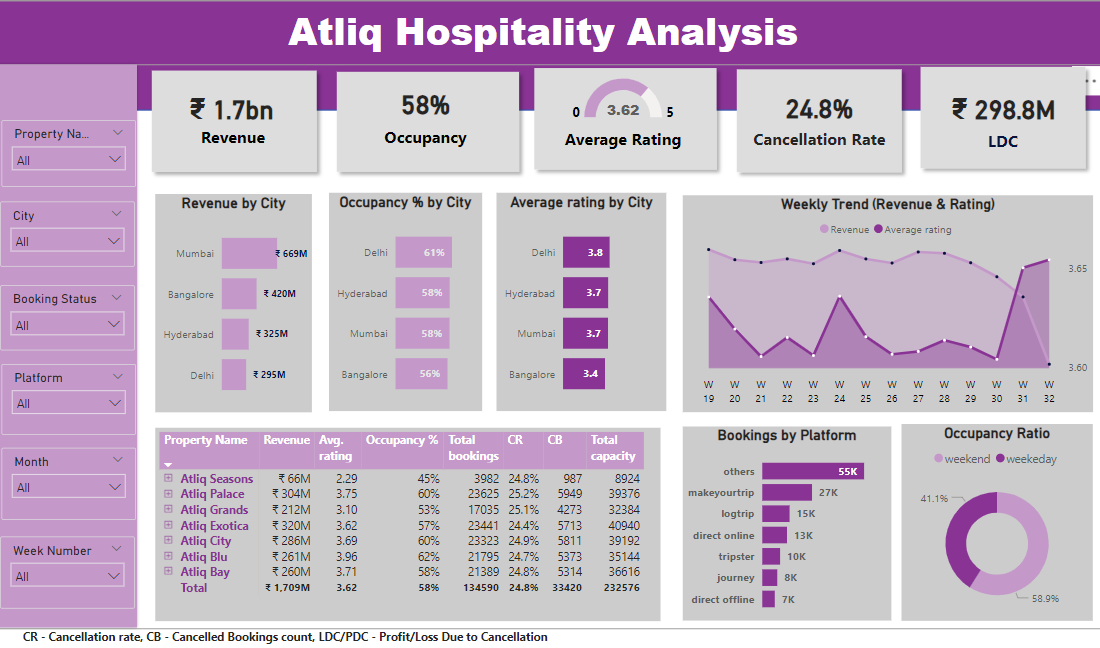

The page's visual inventory and layout, read from the dashboard file:
{"tool":"powerbi","page":{"name":"Overall","canvas":[1280,760],"ordinal":0},"visuals":[{"type":"shape","box":[0,0,1280,134.4],"z":0},{"type":"textbox","box":[1.1,6.7,1278.9,75.7],"z":0,"group":"g1"},{"type":"group","id":"g1","title":"visuals","box":[0,6.7,1280,726.7],"z":1000},{"type":"shape","box":[1060,73.9,208.3,135],"z":1000,"group":"g1"},{"type":"shape","box":[848.3,77.3,208.3,136.7],"z":2000,"group":"g1"},{"type":"textbox","box":[425,146.7,145,45],"z":2000},{"type":"shape","box":[615,75.6,228.3,135],"z":3000,"group":"g1"},{"type":"textbox","box":[863.3,150,180,45],"z":3000},{"type":"shape","box":[386.7,80,228.3,133.3],"z":4000,"group":"g1"},{"type":"textbox","box":[1060,151.7,208.3,35],"z":4000},{"type":"textbox","box":[203.3,146.7,145,40],"z":5000},{"type":"clusteredBarChart","title":"Revenue by City","fields":{"Category":["dim_hotels.city"],"Y":["resource_measures.revenue"]},"box":[186.8,229.8,181.1,251.7],"z":5000,"group":"g1"},{"type":"card","fields":{"Values":["resource_measures.Occupancy %"]},"box":[438.3,93.9,118.3,65],"z":6000,"group":"g1"},{"type":"textbox","box":[648.3,150,156.7,38.3],"z":6000},{"type":"textbox","box":[24.7,727,1063.3,33],"z":6750},{"type":"clusteredBarChart","title":"Occupancy % by City","fields":{"Category":["dim_hotels.city"],"Y":["resource_measures.Occupancy %"]},"box":[386.2,229.3,176.5,252.2],"z":7000,"group":"g1"},{"type":"gauge","fields":{"MaxValue":["resource_measures.max.rating"],"MinValue":["resource_measures.min.rating"],"Y":["resource_measures.avg.rating mod"]},"box":[658.3,83.9,136.7,75],"z":8000,"group":"g1"},{"type":"clusteredBarChart","title":"Average rating by City","fields":{"Category":["dim_hotels.city"],"Y":["resource_measures.Avg. rating"]},"box":[580.7,229.3,196.3,252.2],"z":9000,"group":"g1"},{"type":"donutChart","title":"Occupancy Ratio","fields":{"Category":["dim_date.day_type"],"Y":["resource_measures.Occupancy %"]},"box":[1047,495.9,221,227.5],"z":10000,"group":"g1"},{"type":"areaChart","title":"Weekly Trend (Revenue & Rating)","fields":{"Category":["dim_date.week no"],"Y2":["_Measures.Avg. rating"],"Y":["_Measures.revenue"]},"box":[795,231.5,473.3,250],"z":11000,"group":"g1"},{"type":"clusteredBarChart","title":"Bookings by Platform","fields":{"Category":["fact_bookings.booking_platform"],"Y":["resource_measures.Total bookings"]},"box":[794.6,499.2,240.8,224.2],"z":12000,"group":"g1"},{"type":"pivotTable","fields":{"Rows":["dim_hotels.property_name","dim_hotels.city"],"Values":["resource_measures.revenue","resource_measures.Avg. rating","resource_measures.Occupancy %","resource_measures.Total bookings","resource_measures.CR","resource_measures.Total cancelled bookings","resource_measures.Total capacity"]},"box":[186.8,500,583.3,223.3],"z":13000,"group":"g1"},{"type":"shape","box":[0,76.7,168.4,656.7],"z":14000,"group":"g1"},{"type":"slicer","fields":{"Values":["dim_date.week no"]},"box":[6.7,625,155.1,83.3],"z":15000,"group":"g1"},{"type":"slicer","fields":{"Values":["dim_date.mmm yy.Variation.Date Hierarchy.Month"]},"box":[8.3,523.4,155.1,83.3],"z":16000,"group":"g1"},{"type":"slicer","fields":{"Values":["fact_bookings.booking_platform"]},"box":[8.3,426.7,155.1,81.7],"z":17000,"group":"g1"},{"type":"slicer","fields":{"Values":["fact_bookings.booking_status"]},"box":[6.7,335,155.1,75],"z":18000,"group":"g1"},{"type":"slicer","fields":{"Values":["dim_hotels.city"]},"box":[6.7,238.4,155.1,75],"z":19000,"group":"g1"},{"type":"slicer","fields":{"Values":["dim_hotels.property_name"]},"box":[8.3,145,155.1,76.7],"z":20000,"group":"g1"},{"type":"card","fields":{"Values":["resource_measures.LDC"]},"box":[1093.3,86.7,143.3,90],"z":21000,"group":"g1"},{"type":"card","fields":{"Values":["resource_measures.CR"]},"box":[875,78.9,156.7,101.7],"z":22000,"group":"g1"},{"type":"shape","box":[173.3,78.4,208.3,135],"z":23000,"group":"g1"},{"type":"card","fields":{"Values":["_Measures.revenue"]},"box":[186.7,87.3,176.7,86.7],"z":24000,"group":"g1"}]}

Visuals, with their boxes in screenshot pixels (x1, y1, x2, y2), scaled from the page's 1280x760 canvas onto the 1100x648 screenshot:
shape: crop(0, 0, 1099, 115)
textbox: crop(1, 6, 1099, 70)
"visuals" group: crop(0, 6, 1099, 625)
shape: crop(911, 63, 1090, 178)
shape: crop(729, 66, 908, 182)
textbox: crop(365, 125, 490, 163)
shape: crop(529, 64, 725, 180)
textbox: crop(742, 128, 897, 166)
shape: crop(332, 68, 529, 182)
textbox: crop(911, 129, 1090, 159)
textbox: crop(175, 125, 299, 159)
"Revenue by City" clusteredBarChart: crop(161, 196, 316, 411)
card - resource_measures.Occupancy %: crop(377, 80, 478, 135)
textbox: crop(557, 128, 692, 161)
textbox: crop(21, 620, 935, 647)
"Occupancy % by City" clusteredBarChart: crop(332, 196, 484, 411)
gauge - resource_measures.max.rating x resource_measures.min.rating: crop(566, 72, 683, 135)
"Average rating by City" clusteredBarChart: crop(499, 196, 668, 411)
"Occupancy Ratio" donutChart: crop(900, 423, 1090, 617)
"Weekly Trend (Revenue & Rating)" areaChart: crop(683, 197, 1090, 411)
"Bookings by Platform" clusteredBarChart: crop(683, 426, 890, 617)
pivotTable - dim_hotels.property_name x dim_hotels.city: crop(161, 426, 662, 617)
shape: crop(0, 65, 145, 625)
slicer - dim_date.week no: crop(6, 533, 139, 604)
slicer - dim_date.mmm yy.Variation.Date Hierarchy.Month: crop(7, 446, 140, 517)
slicer - fact_bookings.booking_platform: crop(7, 364, 140, 433)
slicer - fact_bookings.booking_status: crop(6, 286, 139, 350)
slicer - dim_hotels.city: crop(6, 203, 139, 267)
slicer - dim_hotels.property_name: crop(7, 124, 140, 189)
card - resource_measures.LDC: crop(940, 74, 1063, 151)
card - resource_measures.CR: crop(752, 67, 887, 154)
shape: crop(149, 67, 328, 182)
card - _Measures.revenue: crop(160, 74, 312, 148)
